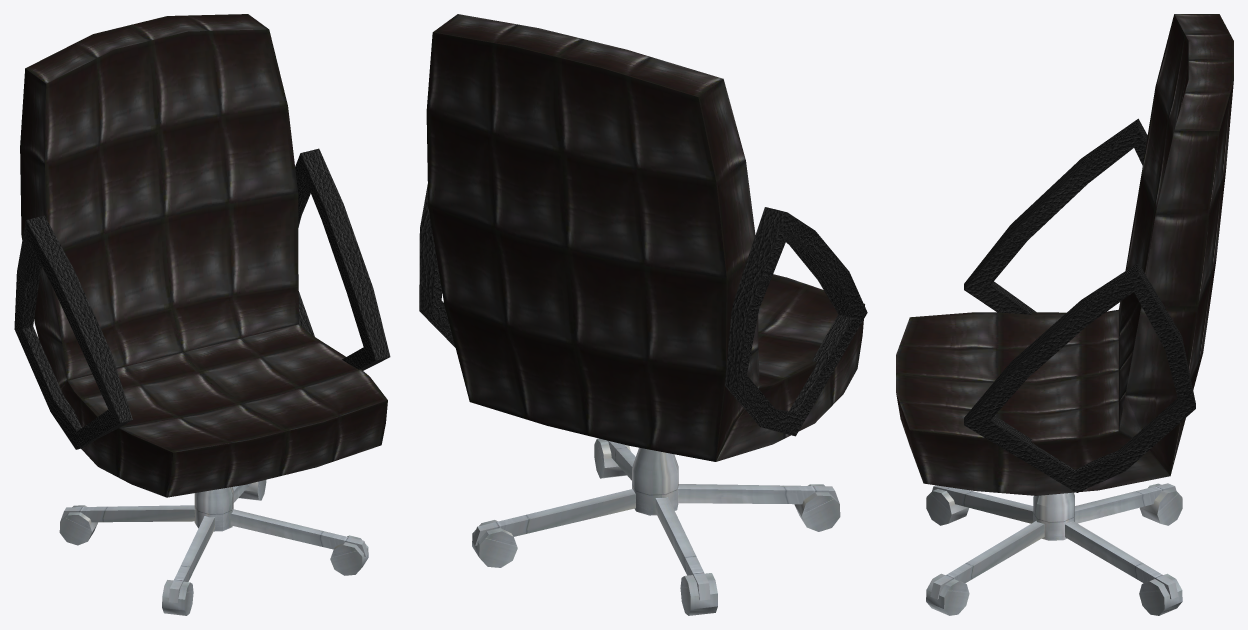
File: Office_Chair.glb
3 renders of one model, left to right at view 1: azimuth 30°, elevation 25°; view 2: azimuth 150°, elevation 25°; view 3: azimuth 270°, elevation 25°, orthographic. The views are drawn at different scales.
Parts seen in each view (by area): view 1: Office_Chair; view 2: Office_Chair; view 3: Office_Chair.
Part boxes in pixels (left/top/right/bottom): Office_Chair: left=14, top=14, right=390, bottom=615; Office_Chair: left=419, top=14, right=867, bottom=615; Office_Chair: left=896, top=14, right=1233, bottom=615.
Bounding box in the file's own units: 7.87 × 12.05 × 7.3.
Materials: 6 (6 with a texture image).
